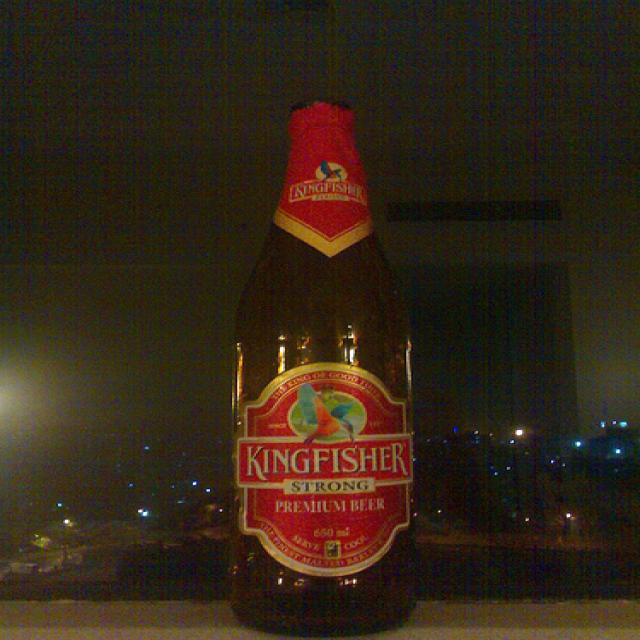Bottle: (229, 76, 436, 640)
